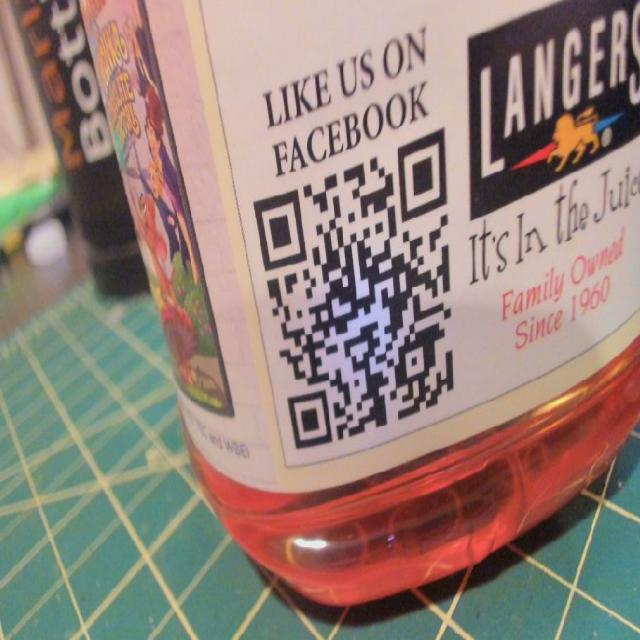QR_CODE: (243, 91, 462, 460)
